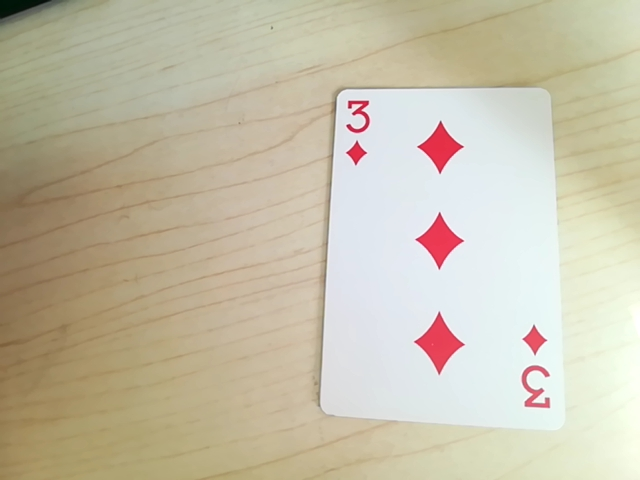fk 3: (337, 94, 374, 154), (516, 358, 552, 416)
